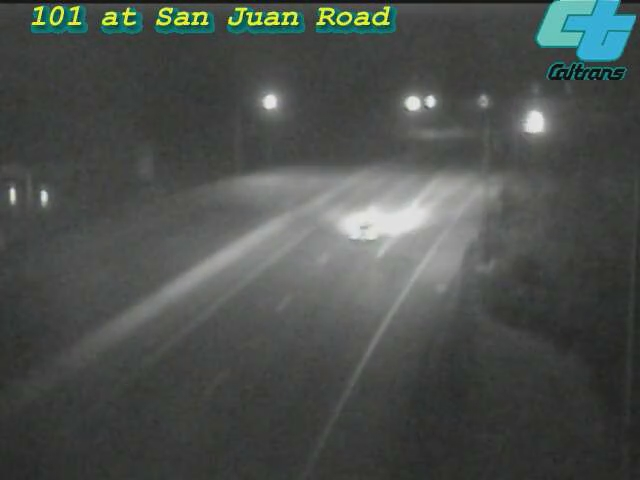vehicle: (327, 188, 407, 268), (508, 96, 558, 146)
